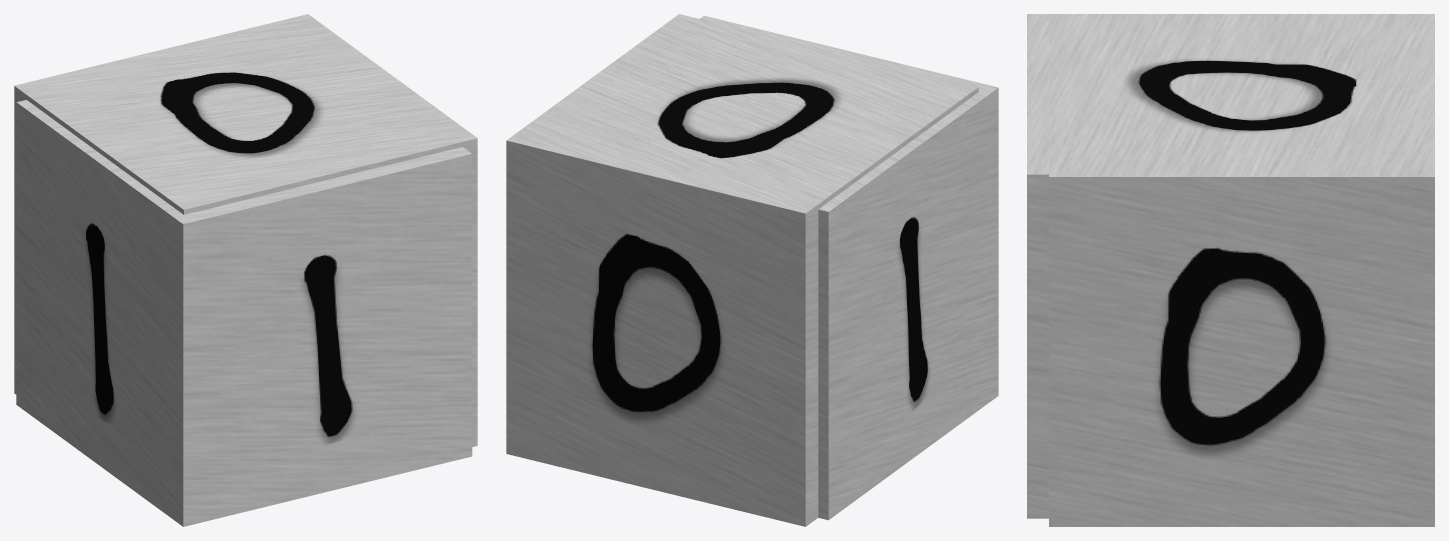
The model's file is dice.obj.
3 views of the same model, side by side, from view 1: azimuth 30°, elevation 25°; view 2: azimuth 150°, elevation 25°; view 3: azimuth 270°, elevation 25° (orthographic). The views are drawn at different scales.
Visible parts, largest first — view 1: Box001, Box002; view 2: Box002, Box001; view 3: Box002, Box001.
Boxes of the visible parts, box(x1,y1,x2,y2) form: Box001: box(16, 100, 472, 526); Box002: box(14, 14, 477, 446); Box002: box(506, 14, 978, 526); Box001: box(700, 15, 998, 520); Box002: box(1049, 14, 1434, 526); Box001: box(1027, 14, 1048, 518).
Bounding box in the file's own units: 21.57 × 20.85 × 22.02.
Materials: 2 (2 with a texture image).
